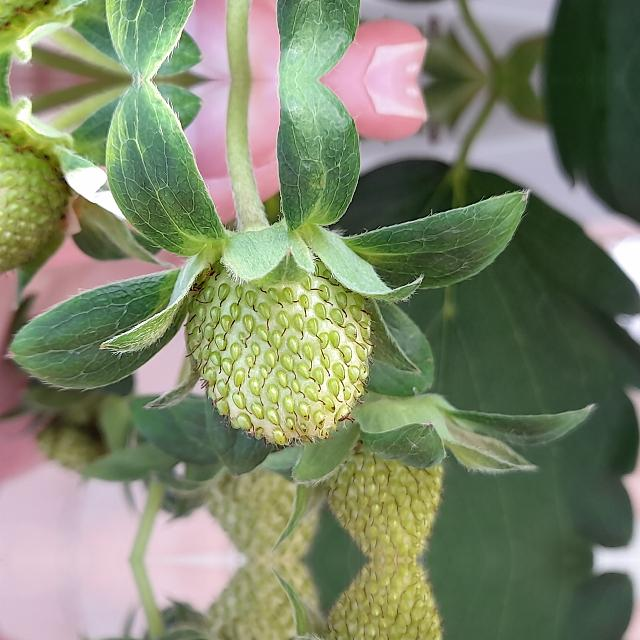Health_25: (183, 248, 377, 450), (322, 440, 444, 560), (322, 560, 444, 640)
